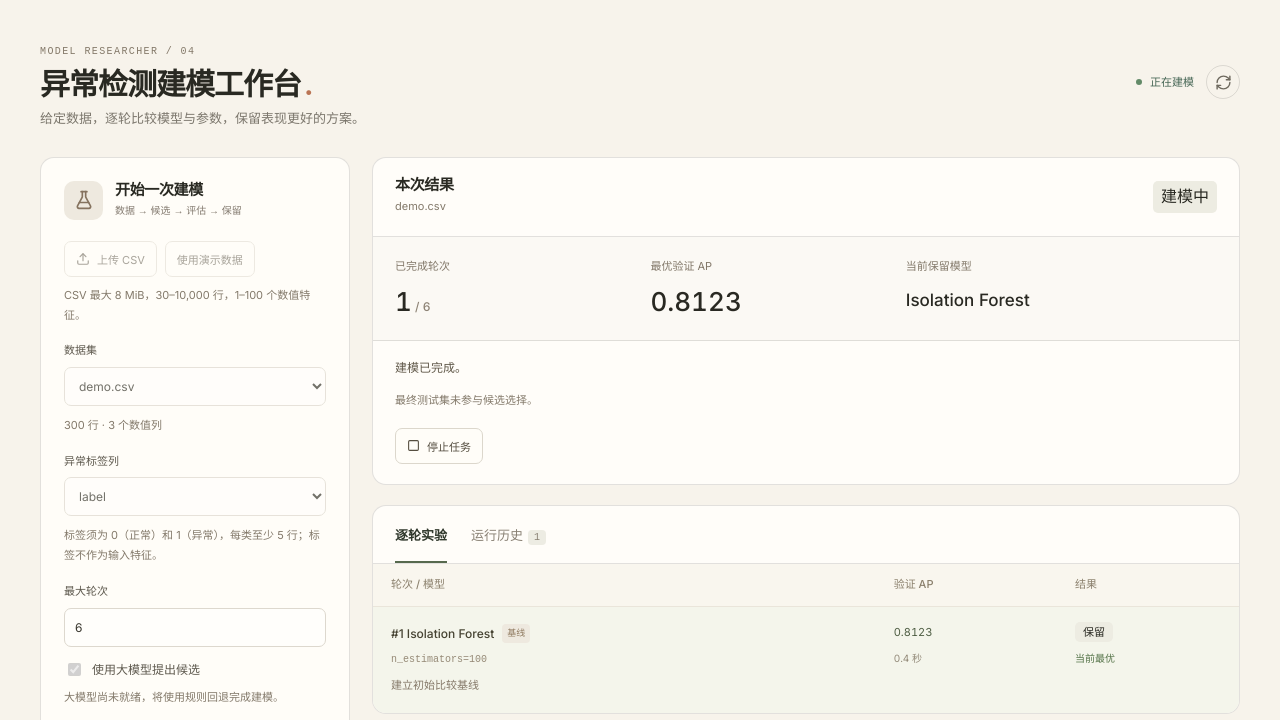
Test case: ResearcherDashboard › stops an active run and disables duplicate stop requests
The width and height of the screenshot is (1280, 720).
Click the button "停止任务".
click(439, 446)  # box [395,428,483,464]
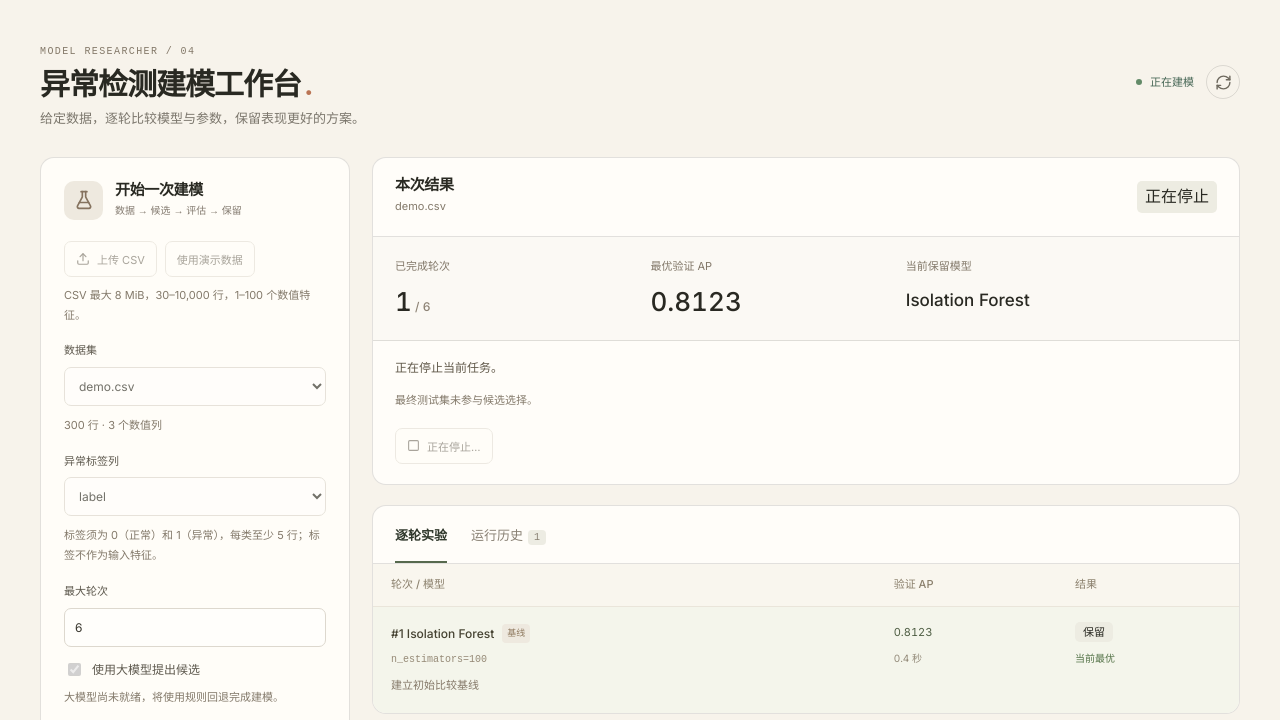
Result: the button "正在停止…" is disabled at [395,428,492,464]
